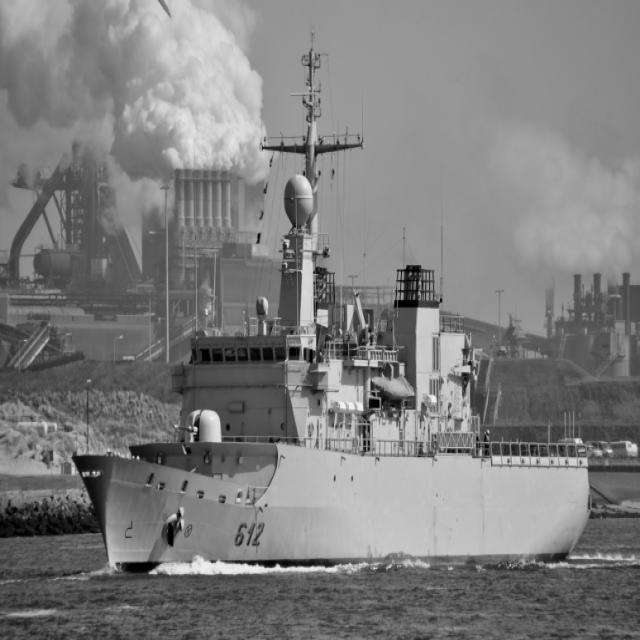Fragata: (71, 32, 592, 570)
